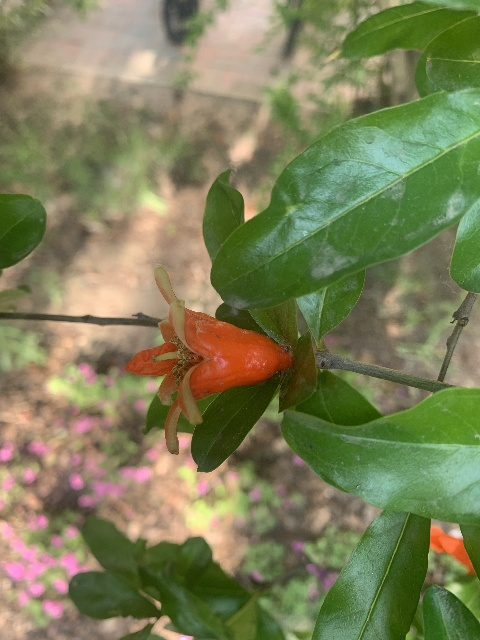flower: (124, 270, 293, 454)
